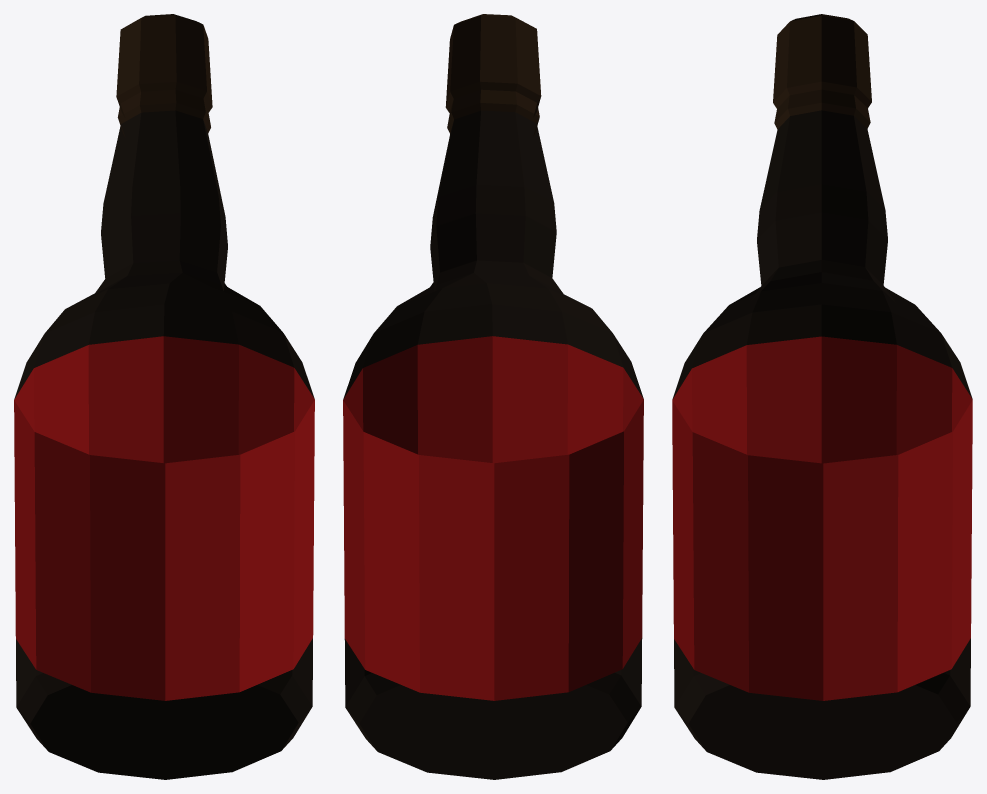
The model's file is Wine 1.fbx.
The picture shows the model from 3 angles, left to right: view 1: azimuth 30°, elevation 25°; view 2: azimuth 150°, elevation 25°; view 3: azimuth 270°, elevation 25°; orthographic projection.
Parts seen in each view (by area): view 1: Node 0; view 2: Node 0; view 3: Node 0.
Part boxes in pixels (x1,y1,x2,y2): Node 0: [14, 14, 314, 779]; Node 0: [343, 14, 643, 779]; Node 0: [672, 14, 972, 779].
Size of the model in its own units: 0.0956 by 0.2434 by 0.0956.
